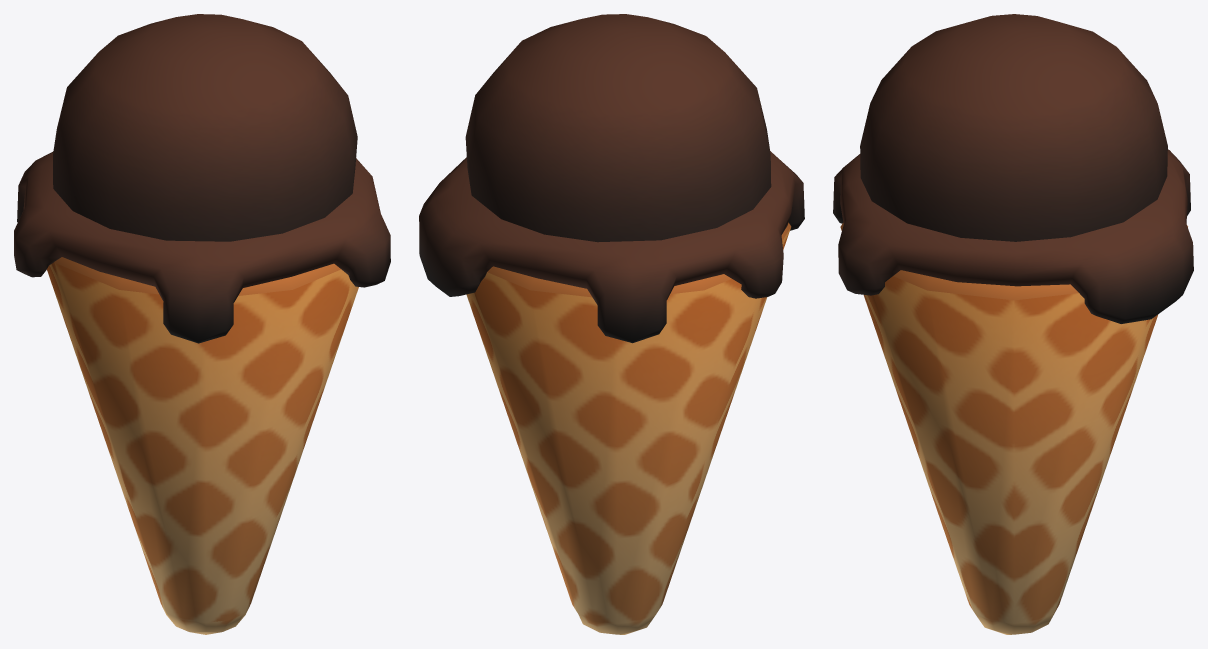
File: m_IceCream04.fbx
The picture shows the model from 3 angles, left to right: view 1: azimuth 30°, elevation 25°; view 2: azimuth 150°, elevation 25°; view 3: azimuth 270°, elevation 25°; orthographic projection.
Parts seen in each view (by area): view 1: m_IceCream04; view 2: m_IceCream04; view 3: m_IceCream04.
Part boxes in pixels (bbox=[...]): m_IceCream04: bbox=[14, 14, 390, 634]; m_IceCream04: bbox=[419, 14, 804, 634]; m_IceCream04: bbox=[833, 14, 1193, 634].
Size of the model in its own units: 9.64 by 16.94 by 9.25.
